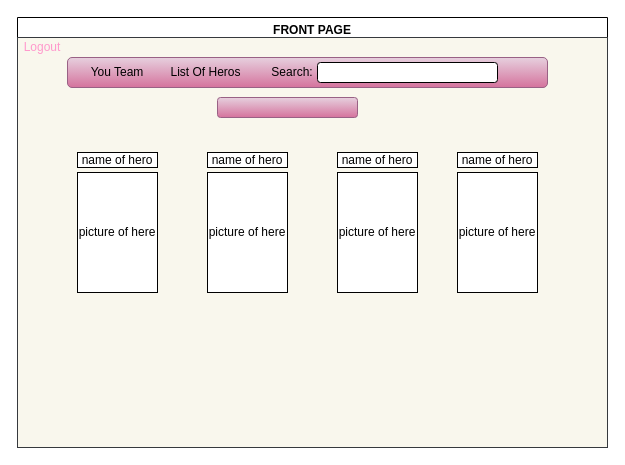
Image size: 625x465. Some labels were removed from this diagram. The box of each missing label's shape, as (x1, y1, x2, y2) in pixels:
search here: (316, 62, 498, 82)
Your Team: (216, 96, 358, 118)
